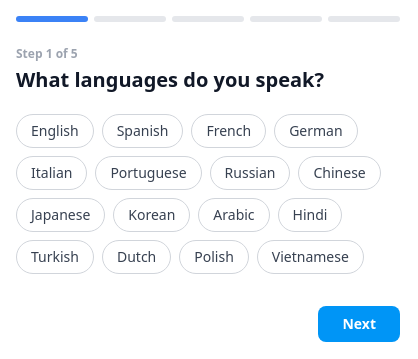
Test: Onboarding Component › requires at least one learning language before advancing
The width and height of the screenshot is (418, 359).
Click the button "English". click: (55, 131)
box: [16, 114, 94, 148]
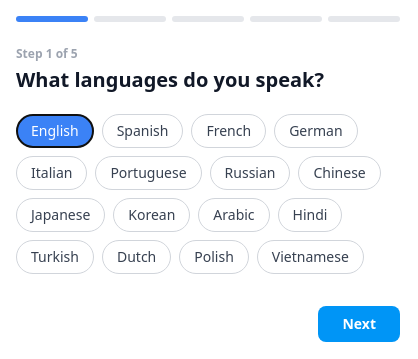
Click the button "Next". click: (359, 324)
box: [318, 306, 400, 342]
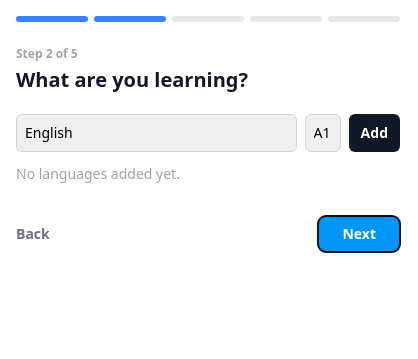
Click the button "Next". click: (359, 234)
box: [318, 216, 400, 252]
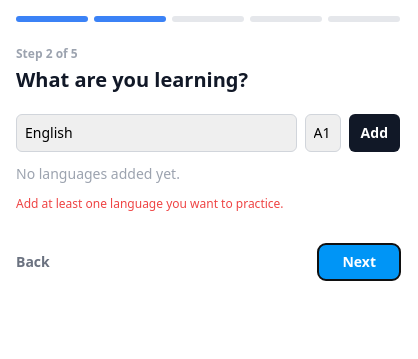
Check: the text "Add at least one language you want to practice." is shown, box [16, 195, 284, 212]
